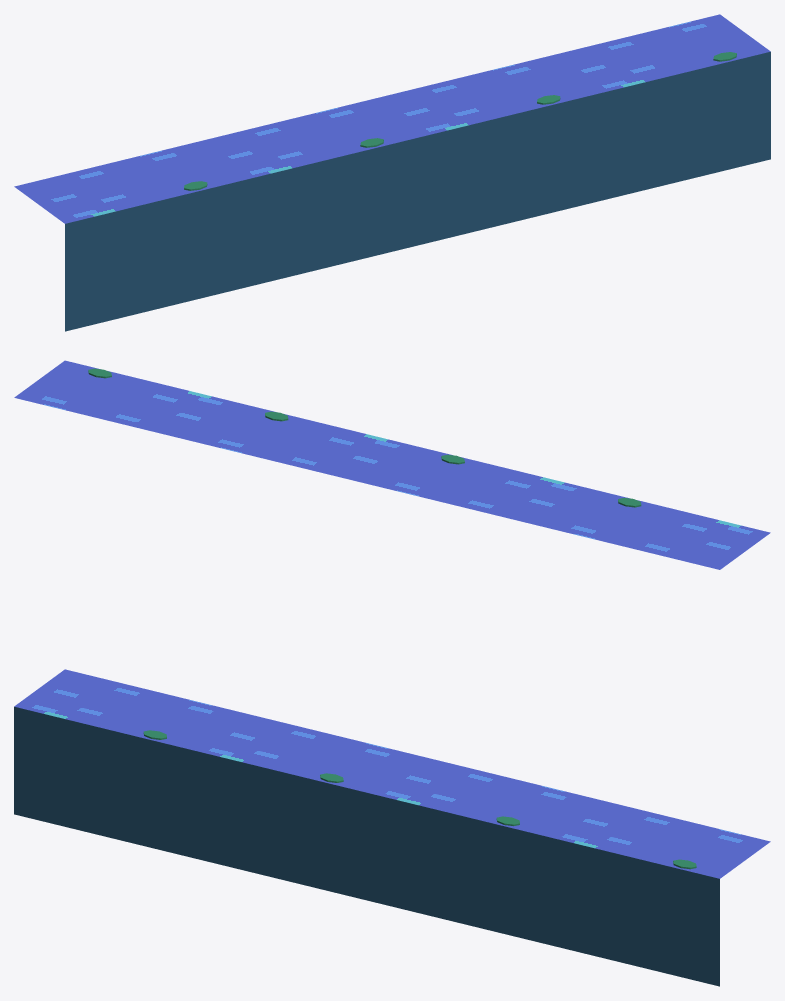
The model's file is water.glb.
3 renders of one model, top to bottom at view 1: azimuth 30°, elevation 25°; view 2: azimuth 150°, elevation 25°; view 3: azimuth 330°, elevation 25°, orthographic.
Parts seen in each view (by area): view 1: Water; view 2: Water; view 3: Water.
Part boxes in pixels (x1,y1,x2,y2): Water: (14, 14, 770, 331); Water: (14, 360, 770, 569); Water: (14, 669, 770, 986).
Bounding box in the file's own units: 19.2 × 2.84 × 2.4.
Materials: 3 (1 with a texture image).
